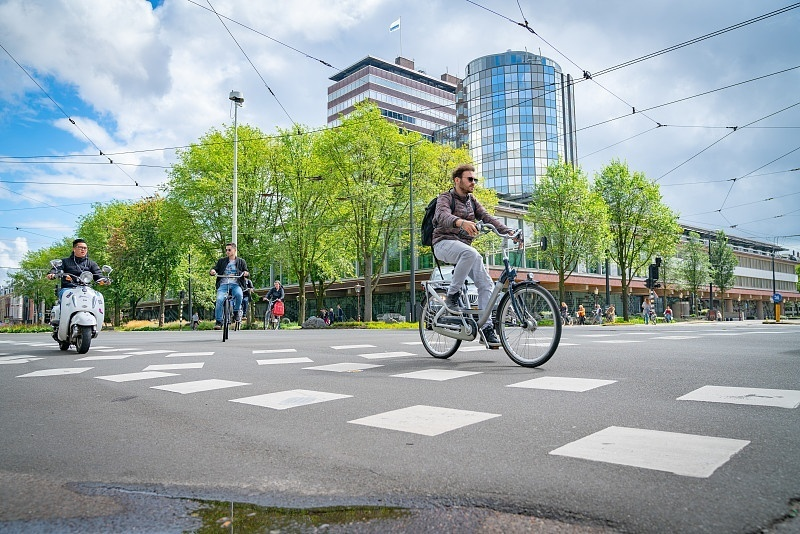non-vehicle: (421, 227, 562, 376), (44, 262, 110, 356), (209, 266, 249, 337), (263, 295, 282, 329)
